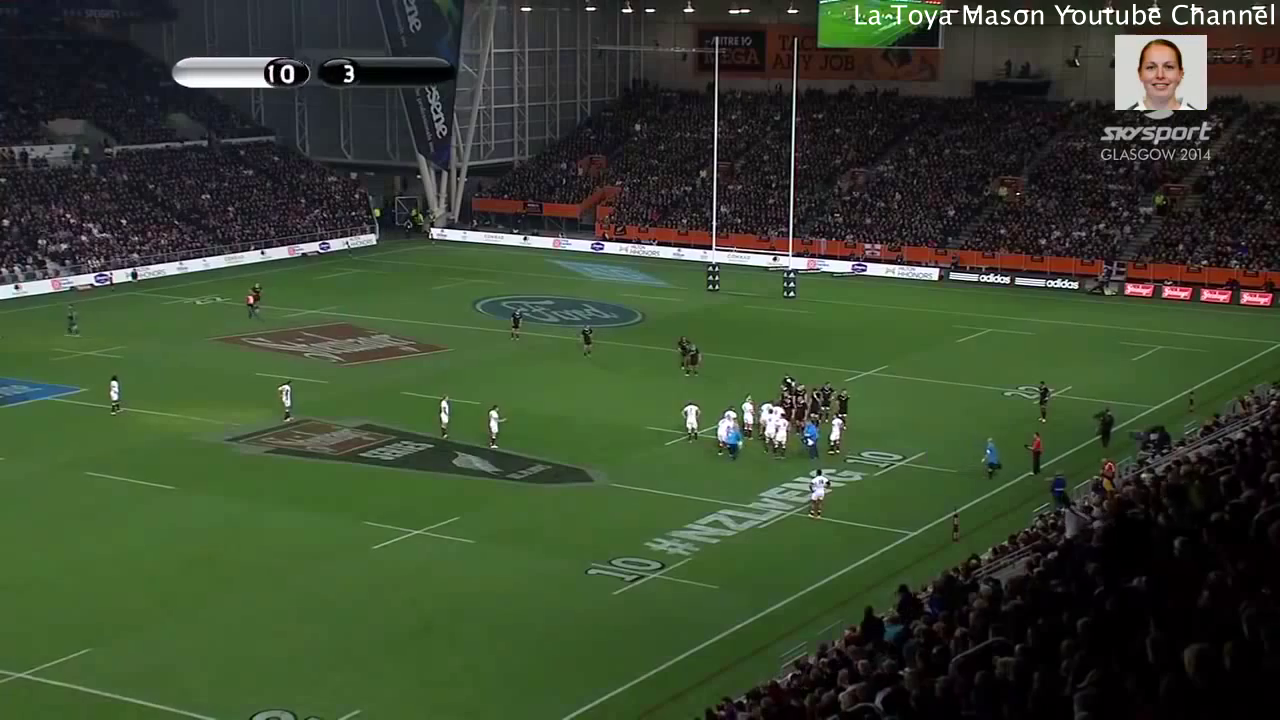10_metre: (570, 550, 730, 607), (352, 505, 490, 560)
player: (800, 468, 833, 523), (432, 389, 461, 444), (481, 400, 506, 455), (767, 411, 793, 462), (273, 371, 295, 428), (103, 366, 126, 420), (823, 410, 848, 459), (680, 401, 703, 448), (61, 300, 86, 342), (753, 398, 777, 441), (833, 386, 858, 426), (799, 421, 824, 461), (505, 306, 529, 344), (574, 322, 600, 357), (807, 385, 829, 426), (820, 377, 838, 425), (724, 423, 748, 457), (739, 391, 756, 439), (759, 405, 776, 453), (688, 342, 711, 377), (715, 412, 735, 449), (793, 393, 809, 434), (242, 292, 263, 323), (674, 330, 691, 368), (250, 278, 265, 308), (721, 400, 740, 421), (779, 371, 795, 388)
post: (695, 24, 805, 307)
